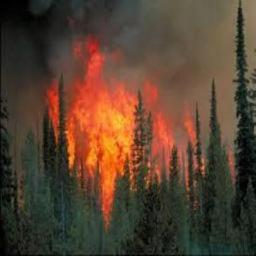Heavy smoke: (8, 0, 256, 161)
Medium fire: (38, 43, 202, 219)
